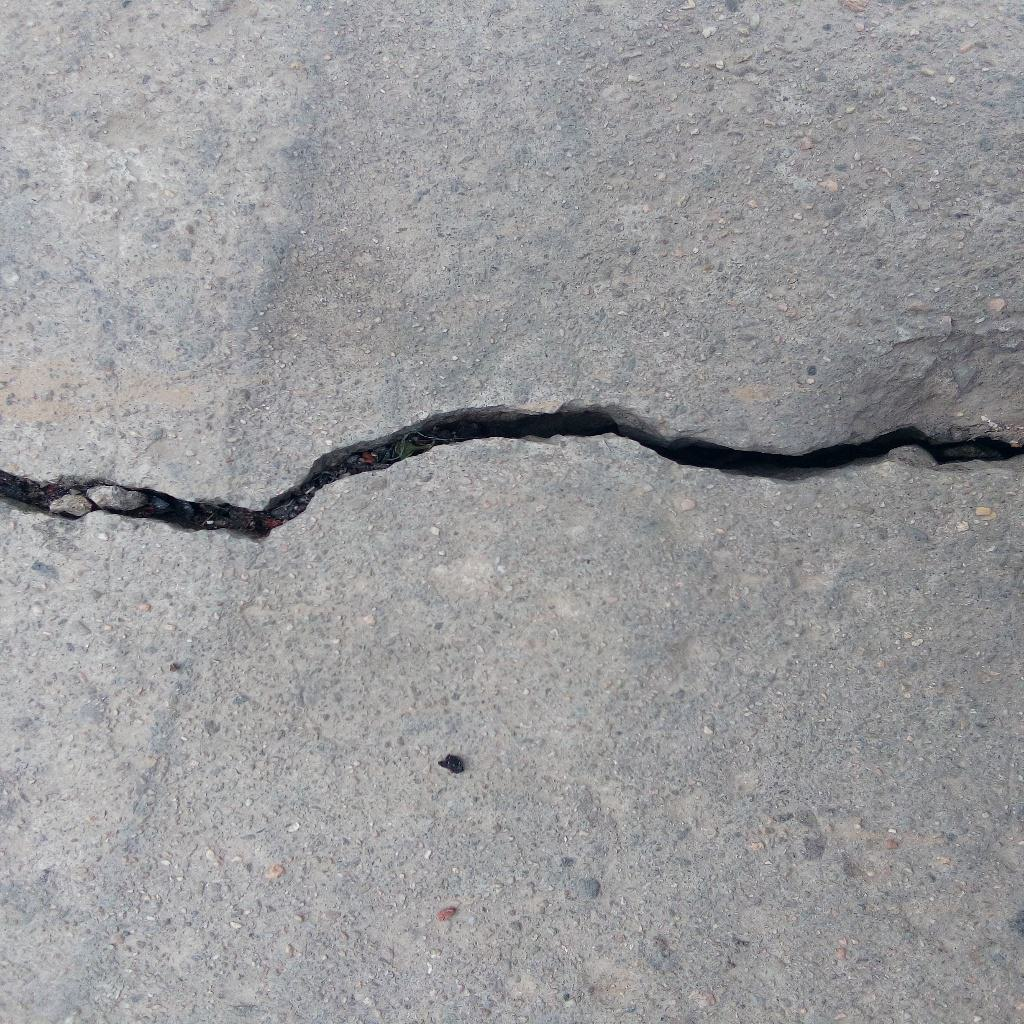Crack: (1, 396, 1024, 547)
